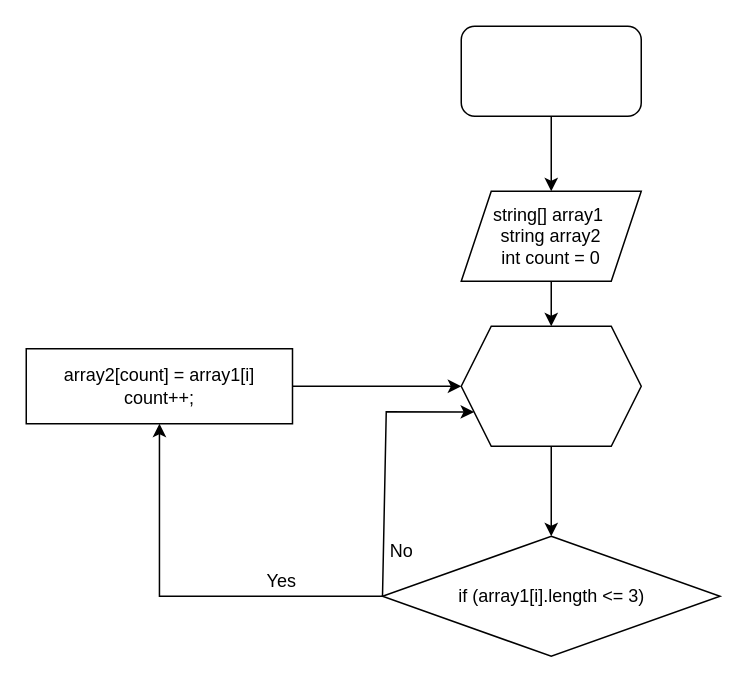
The diagram is 747 pixels wide and 683 high, and some of its shapes have lost their labels. The shapes that lost their labels are listed below. From the top down, each one's box as (x1, y1, x2, y2) in pixels, then its label:
(460, 25, 641, 116): FindFreeSymbols
(460, 325, 641, 446): for (int i = 0; i < array1.length; i++)
